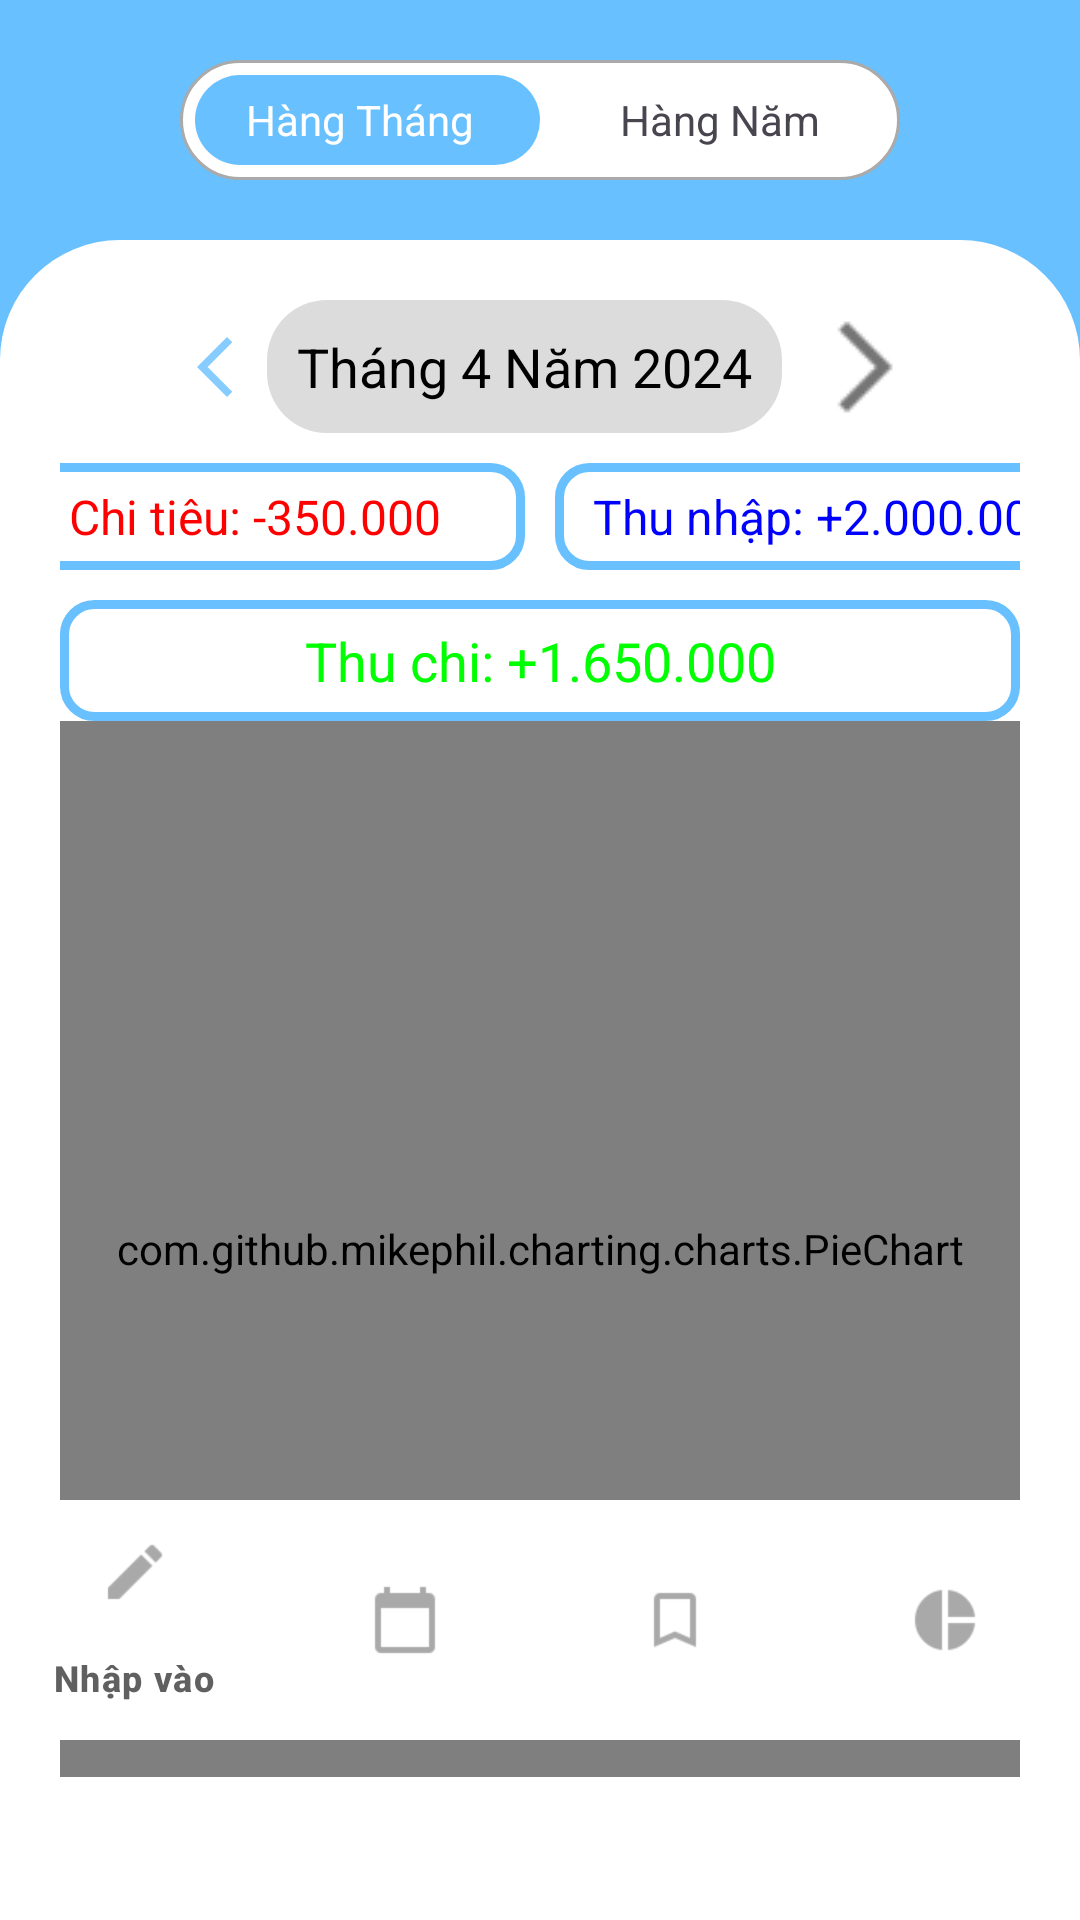

Icons on this 1080w x 1920h Android screen, each with the point to tap as [x,y]:
back: [214,367]
forward: [865,367]
